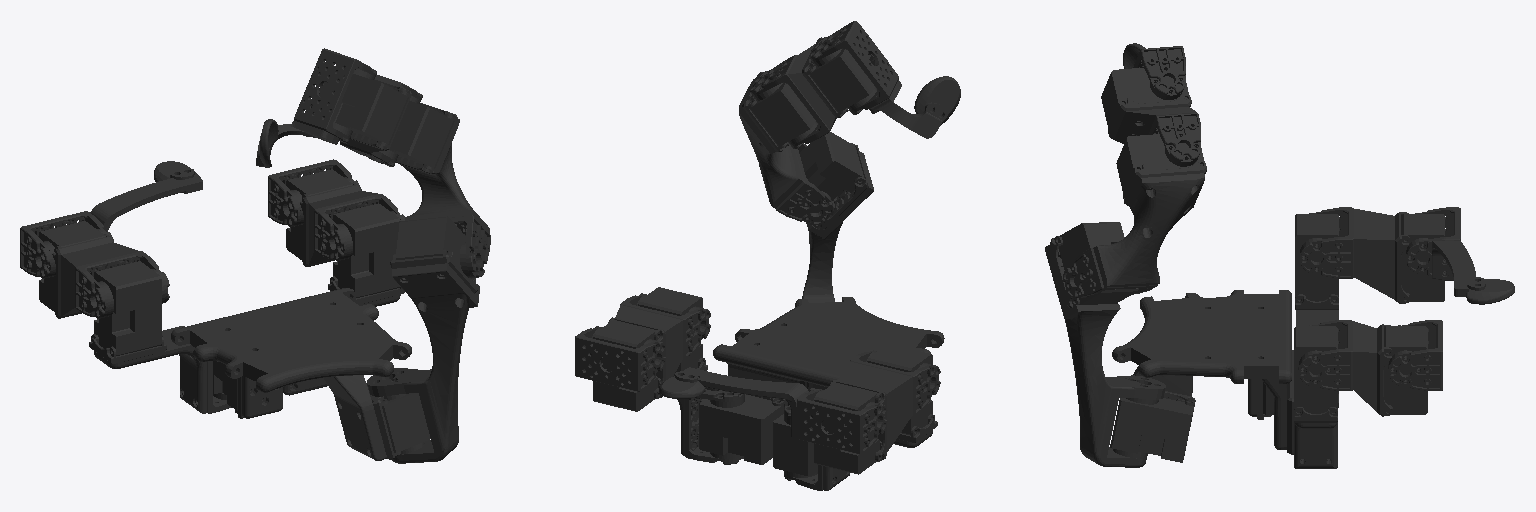
URDF robot description (ditto_3f_leader):
<?xml version="1.0" encoding="utf-8"?>
<!-- This URDF was automatically created by SolidWorks to URDF Exporter! Originally created by Stephen Brawner (brawner@gmail.com) 
     Commit Version: 1.6.0-4-g7f85cfe  Build Version: 1.6.7995.38578
     For more information, please see http://wiki.ros.org/sw_urdf_exporter -->
<robot
  name="ditto_3f_leader">
  <link
    name="base_link">
    <inertial>
      <origin
        xyz="-0.0213561328356412 -0.0366253635659899 0.00973470669305248"
        rpy="0 0 0" />
      <mass
        value="0.109125547143221" />
      <inertia
        ixx="4.18384967301601E-05"
        ixy="-1.3641439625342E-06"
        ixz="4.29400345729265E-06"
        iyy="3.55799228843054E-05"
        iyz="-8.34201252822404E-07"
        izz="5.61288584240305E-05" />
    </inertial>
    <visual>
      <origin
        xyz="0 0 0"
        rpy="0 0 0" />
      <geometry>
        <mesh
          filename="meshes/base_link.STL" />
      </geometry>
      <material
        name="">
        <color
          rgba="0.250980392156863 0.250980392156863 0.250980392156863 1" />
      </material>
    </visual>
    <collision>
      <origin
        xyz="0 0 0"
        rpy="0 0 0" />
      <geometry>
        <mesh
          filename="meshes/base_link.STL" />
      </geometry>
    </collision>
  </link>
  <link
    name="index_link_0">
    <inertial>
      <origin
        xyz="0.0271735386977429 3.02693931369142E-09 0.0290057238790129"
        rpy="0 0 0" />
      <mass
        value="0.0234290807402588" />
      <inertia
        ixx="3.11468553842293E-06"
        ixy="-1.63639516312443E-13"
        ixz="-2.1506879881659E-07"
        iyy="3.56962661403034E-06"
        iyz="-2.93292357355132E-13"
        izz="1.91839577955842E-06" />
    </inertial>
    <visual>
      <origin
        xyz="0 0 0"
        rpy="0 0 0" />
      <geometry>
        <mesh
          filename="meshes/index_link_0.STL" />
      </geometry>
      <material
        name="">
        <color
          rgba="0.250980392156863 0.250980392156863 0.250980392156863 1" />
      </material>
    </visual>
    <collision>
      <origin
        xyz="0 0 0"
        rpy="0 0 0" />
      <geometry>
        <mesh
          filename="meshes/index_link_0.STL" />
      </geometry>
    </collision>
  </link>
  <joint
    name="index_joint_0"
    type="revolute">
    <origin
      xyz="0 0 0"
      rpy="0 0 0" />
    <parent
      link="base_link" />
    <child
      link="index_link_0" />
    <axis
      xyz="0 0 -1" />
    <limit
      lower="-0.8"
      upper="0.3"
      effort="0"
      velocity="0" />
  </joint>
  <link name="retarget_base">
    <inertial>
      <origin xyz="0 0 0" rpy="0 0 0" />
      <mass value="1.0E-06" />
      <inertia ixx="1.0E-12" ixy="0" ixz="0" iyy="1.0E-12" iyz="0" izz="1.0E-12" />
    </inertial>
  </link>
  <joint name="retarget_base_joint" type="fixed">
    <origin xyz="0 0 0.046" rpy="0 0 0" />
    <parent link="base_link" />
    <child link="retarget_base" />
  </joint>
  <link
    name="index_link_1">
    <inertial>
      <origin
        xyz="0.0324867258156198 -0.00549943022495447 0.000209333565141162"
        rpy="0 0 0" />
      <mass
        value="0.0277581841607585" />
      <inertia
        ixx="4.11454234312938E-06"
        ixy="4.96840161489649E-08"
        ixz="1.58829402867338E-13"
        iyy="2.57034877332712E-06"
        iyz="-4.28535395323684E-08"
        izz="2.91638603075459E-06" />
    </inertial>
    <visual>
      <origin
        xyz="0 0 0"
        rpy="0 0 0" />
      <geometry>
        <mesh
          filename="meshes/index_link_1.STL" />
      </geometry>
      <material
        name="">
        <color
          rgba="0.250980392156863 0.250980392156863 0.250980392156863 1" />
      </material>
    </visual>
    <collision>
      <origin
        xyz="0 0 0"
        rpy="0 0 0" />
      <geometry>
        <mesh
          filename="meshes/index_link_1.STL" />
      </geometry>
    </collision>
  </link>
  <joint
    name="index_joint_1"
    type="revolute">
    <origin
      xyz="0.03 0 0.046"
      rpy="1.5707963267949 0 1.57079632679489" />
    <parent
      link="index_link_0" />
    <child
      link="index_link_1" />
    <axis
      xyz="0 0 -1" />
    <limit
      lower="-1.57"
      upper="0.17"
      effort="0"
      velocity="0" />
  </joint>
  <link
    name="index_link_2">
    <inertial>
      <origin
        xyz="0.0100768333002347 1.60820712605955E-13 -1.20264999675168E-12"
        rpy="0 0 0" />
      <mass
        value="0.00252674876938613" />
      <inertia
        ixx="5.37570168949988E-07"
        ixy="2.3690052303945E-18"
        ixz="-2.68581997503519E-17"
        iyy="5.77184540925893E-07"
        iyz="2.72601460923019E-18"
        izz="2.1332062555457E-07" />
    </inertial>
    <visual>
      <origin
        xyz="0 0 0"
        rpy="0 0 0" />
      <geometry>
        <mesh
          filename="meshes/index_link_2.STL" />
      </geometry>
      <material
        name="">
        <color
          rgba="0.250980392156863 0.250980392156863 0.250980392156863 1" />
      </material>
    </visual>
    <collision>
      <origin
        xyz="0 0 0"
        rpy="0 0 0" />
      <geometry>
        <mesh
          filename="meshes/index_link_2.STL" />
      </geometry>
    </collision>
  </link>
  <joint
    name="index_joint_2"
    type="revolute">
    <origin
      xyz="0.0409999999999935 0 0"
      rpy="0 0 0" />
    <parent
      link="index_link_1" />
    <child
      link="index_link_2" />
    <axis
      xyz="0 0 -1" />
    <limit
      lower="-1.57"
      upper="0.1"
      effort="0"
      velocity="0" />
  </joint>
  <link
    name="index_fingerpad">
    <inertial>
      <origin
        xyz="-0.0143776168752036 -0.00237508945353907 -0.00159388581233799"
        rpy="0 0 0" />
      <mass
        value="0.00293503442078024" />
      <inertia
        ixx="1.33921402320109E-07"
        ixy="-4.95796402223525E-08"
        ixz="-3.5454658506907E-08"
        iyy="3.38297009665592E-07"
        iyz="-3.08234184419248E-08"
        izz="3.77300622257017E-07" />
    </inertial>
    <visual>
      <origin
        xyz="0 0 0"
        rpy="0 0 0" />
      <geometry>
        <mesh
          filename="meshes/index_fingerpad.STL" />
      </geometry>
      <material
        name="">
        <color
          rgba="0.250980392156863 0.250980392156863 0.250980392156863 1" />
      </material>
    </visual>
    <collision>
      <origin
        xyz="0 0 0"
        rpy="0 0 0" />
      <geometry>
        <mesh
          filename="meshes/index_fingerpad.STL" />
      </geometry>
    </collision>
  </link>
  <joint
    name="index_fingerpad_joint"
    type="fixed">
    <origin
      xyz="0.0322000000000001 0.00700000000000183 -0.0278000000000001"
      rpy="-1.5707963267949 0 0" />
    <parent
      link="index_link_2" />
    <child
      link="index_fingerpad" />
    <axis
      xyz="0 0 0" />
  </joint>
  <link
    name="thumb_link_0">
    <inertial>
      <origin
        xyz="0.027721140491236 0.0124445544239226 0.0455118929556209"
        rpy="0 0 0" />
      <mass
        value="0.0360287572495203" />
      <inertia
        ixx="1.75150293312771E-05"
        ixy="-3.49417617835589E-07"
        ixz="-5.69771563106498E-06"
        iyy="1.93710255768993E-05"
        iyz="5.46256846149709E-07"
        izz="5.97339197497642E-06" />
    </inertial>
    <visual>
      <origin
        xyz="0 0 0"
        rpy="0 0 0" />
      <geometry>
        <mesh
          filename="meshes/thumb_link_0.STL" />
      </geometry>
      <material
        name="">
        <color
          rgba="0.250980392156863 0.250980392156863 0.250980392156863 1" />
      </material>
    </visual>
    <collision>
      <origin
        xyz="0 0 0"
        rpy="0 0 0" />
      <geometry>
        <mesh
          filename="meshes/thumb_link_0.STL" />
      </geometry>
    </collision>
  </link>
  <joint
    name="thumb_joint_0"
    type="revolute">
    <origin
      xyz="-0.00214172528372005 -0.0804363017815774 0.00547954198946005"
      rpy="0.016838154197939 -0.181665966850915 -1.66373584590886" />
    <parent
      link="base_link" />
    <child
      link="thumb_link_0" />
    <axis
      xyz="0 -0.167114290573186 0.985937530417734" />
    <limit
      lower="-0.57"
      upper="0.8"
      effort="0"
      velocity="0" />
  </joint>
  <link
    name="thumb_link_1">
    <inertial>
      <origin
        xyz="0.0415651938691396 0.0230648362829693 -0.0135230722742165"
        rpy="0 0 0" />
      <mass
        value="0.0337789978005482" />
      <inertia
        ixx="4.61511916267369E-06"
        ixy="-1.59805595804912E-06"
        ixz="7.95780644293983E-07"
        iyy="6.53418176403598E-06"
        iyz="6.17483182179756E-08"
        izz="5.66157678825438E-06" />
    </inertial>
    <visual>
      <origin
        xyz="0 0 0"
        rpy="0 0 0" />
      <geometry>
        <mesh
          filename="meshes/thumb_link_1.STL" />
      </geometry>
      <material
        name="">
        <color
          rgba="0.250980392156863 0.250980392156863 0.250980392156863 1" />
      </material>
    </visual>
    <collision>
      <origin
        xyz="0 0 0"
        rpy="0 0 0" />
      <geometry>
        <mesh
          filename="meshes/thumb_link_1.STL" />
      </geometry>
    </collision>
  </link>
  <joint
    name="thumb_joint_1"
    type="revolute">
    <origin
      xyz="0.0339411254969603 0.023013567589507 0.0673262918632758"
      rpy="1.40051047580421 -0.799169731618551 2.47174579176664" />
    <parent
      link="thumb_link_0" />
    <child
      link="thumb_link_1" />
    <axis
      xyz="0 0 1" />
    <limit
      lower="-1.57"
      upper="0.3"
      effort="0"
      velocity="0" />
  </joint>
  <link
    name="thumb_link_2">
    <inertial>
      <origin
        xyz="0.0292947393624981 0.00579498422914695 -0.00775278692823328"
        rpy="0 0 0" />
      <mass
        value="0.0235045649917366" />
      <inertia
        ixx="3.56323789548823E-06"
        ixy="-1.01749709931021E-08"
        ixz="1.29052781790808E-16"
        iyy="2.18948897180294E-06"
        iyz="4.2854941744936E-08"
        izz="2.60810652101685E-06" />
    </inertial>
    <visual>
      <origin
        xyz="0 0 0"
        rpy="0 0 0" />
      <geometry>
        <mesh
          filename="meshes/thumb_link_2.STL" />
      </geometry>
      <material
        name="">
        <color
          rgba="0.250980392156863 0.250980392156863 0.250980392156863 1" />
      </material>
    </visual>
    <collision>
      <origin
        xyz="0 0 0"
        rpy="0 0 0" />
      <geometry>
        <mesh
          filename="meshes/thumb_link_2.STL" />
      </geometry>
    </collision>
  </link>
  <joint
    name="thumb_joint_2"
    type="revolute">
    <origin
      xyz="0.0592471988937203 0.0378393192831765 -0.0197895079937487"
      rpy="1.14448873095508 0.194946179240088 1.71050085923731" />
    <parent
      link="thumb_link_1" />
    <child
      link="thumb_link_2" />
    <axis
      xyz="0 0 1" />
    <limit
      lower="-1.57"
      upper="0.3"
      effort="0"
      velocity="0" />
  </joint>
  <link
    name="thumb_link_3">
    <inertial>
      <origin
        xyz="0.0100768331773071 -5.45364933768333E-11 -0.00799999996804443"
        rpy="0 0 0" />
      <mass
        value="0.00252674889330346" />
      <inertia
        ixx="5.37570170098016E-07"
        ixy="-5.88779675685063E-16"
        ixz="3.81325110706091E-16"
        iyy="5.77184541773846E-07"
        iyz="-3.88278447183493E-17"
        izz="2.13320626356563E-07" />
    </inertial>
    <visual>
      <origin
        xyz="0 0 0"
        rpy="0 0 0" />
      <geometry>
        <mesh
          filename="meshes/thumb_link_3.STL" />
      </geometry>
      <material
        name="">
        <color
          rgba="0.250980392156863 0.250980392156863 0.250980392156863 1" />
      </material>
    </visual>
    <collision>
      <origin
        xyz="0 0 0"
        rpy="0 0 0" />
      <geometry>
        <mesh
          filename="meshes/thumb_link_3.STL" />
      </geometry>
    </collision>
  </link>
  <joint
    name="thumb_joint_3"
    type="revolute">
    <origin
      xyz="0.035 0 0"
      rpy="0 0 0" />
    <parent
      link="thumb_link_2" />
    <child
      link="thumb_link_3" />
    <axis
      xyz="0 0 1" />
    <limit
      lower="-1.57"
      upper="0.1"
      effort="0"
      velocity="0" />
  </joint>
  <link
    name="thumb_fingerpad">
    <inertial>
      <origin
        xyz="-0.00844009736991974 0.00573387152339363 -0.00521265550446311"
        rpy="0 0 0" />
      <mass
        value="0.00282848549611836" />
      <inertia
        ixx="2.9190702938092E-07"
        ixy="9.70880291220612E-09"
        ixz="9.1507941828543E-09"
        iyy="2.36829249448083E-07"
        iyz="8.34407283629399E-08"
        izz="1.71632993338662E-07" />
    </inertial>
    <visual>
      <origin
        xyz="0 0 0"
        rpy="0 0 0" />
      <geometry>
        <mesh
          filename="meshes/thumb_fingerpad.STL" />
      </geometry>
      <material
        name="">
        <color
          rgba="0.250980392156863 0.250980392156863 0.250980392156863 1" />
      </material>
    </visual>
    <collision>
      <origin
        xyz="0 0 0"
        rpy="0 0 0" />
      <geometry>
        <mesh
          filename="meshes/thumb_fingerpad.STL" />
      </geometry>
    </collision>
  </link>
  <joint
    name="thumb_fingerpad_joint"
    type="fixed">
    <origin
      xyz="0.034 -0.00499999999999969 -0.0398"
      rpy="1.80666825946076 -0.379498136323909 0.503100653479423" />
    <parent
      link="thumb_link_3" />
    <child
      link="thumb_fingerpad" />
    <axis
      xyz="0 0 0" />
  </joint>
  <link
    name="middle_link_0">
    <inertial>
      <origin
        xyz="0.0428660995746774 -6.81652114744788E-10 0.0275129733864136"
        rpy="0 0 0" />
      <mass
        value="0.0257036203076206" />
      <inertia
        ixx="3.37340622109194E-06"
        ixy="-4.6810213020141E-14"
        ixz="-4.65928978802705E-07"
        iyy="4.87334238776261E-06"
        iyz="-1.17575733298302E-13"
        izz="3.10117177028274E-06" />
    </inertial>
    <visual>
      <origin
        xyz="0 0 0"
        rpy="0 0 0" />
      <geometry>
        <mesh
          filename="meshes/middle_link_0.STL" />
      </geometry>
      <material
        name="">
        <color
          rgba="0.250980392156863 0.250980392156863 0.250980392156863 1" />
      </material>
    </visual>
    <collision>
      <origin
        xyz="0 0 0"
        rpy="0 0 0" />
      <geometry>
        <mesh
          filename="meshes/middle_link_0.STL" />
      </geometry>
    </collision>
  </link>
  <joint
    name="middle_joint_0"
    type="revolute">
    <origin
      xyz="-0.0395 0.0005 0"
      rpy="0 0 3.1416" />
    <parent
      link="base_link" />
    <child
      link="middle_link_0" />
    <axis
      xyz="0 0 -1" />
    <limit
      lower="-0.3"
      upper="0.3"
      effort="0"
      velocity="0" />
  </joint>
  <link
    name="middle_link_1">
    <inertial>
      <origin
        xyz="0.0364928103809854 -0.00525061406363379 0.000176615436499439"
        rpy="0 0 0" />
      <mass
        value="0.0329000270028115" />
      <inertia
        ixx="4.78314507668699E-06"
        ixy="1.40869805443594E-07"
        ixz="-3.79420138484226E-14"
        iyy="3.23635026567844E-06"
        iyz="-4.28547769247268E-08"
        izz="3.4883400552915E-06" />
    </inertial>
    <visual>
      <origin
        xyz="0 0 0"
        rpy="0 0 0" />
      <geometry>
        <mesh
          filename="meshes/middle_link_1.STL" />
      </geometry>
      <material
        name="">
        <color
          rgba="0.250980392156863 0.250980392156863 0.250980392156863 1" />
      </material>
    </visual>
    <collision>
      <origin
        xyz="0 0 0"
        rpy="0 0 0" />
      <geometry>
        <mesh
          filename="meshes/middle_link_1.STL" />
      </geometry>
    </collision>
  </link>
  <joint
    name="middle_joint_1"
    type="revolute">
    <origin
      xyz="0.052 0 0.046"
      rpy="1.5708 0 -1.5708" />
    <parent
      link="middle_link_0" />
    <child
      link="middle_link_1" />
    <axis
      xyz="0 0 -1" />
    <limit
      lower="-1.57"
      upper="0.17"
      effort="0"
      velocity="0" />
  </joint>
  <link
    name="middle_link_2">
    <inertial>
      <origin
        xyz="0.0100768333002347 1.60802726857313E-13 -1.20251031354712E-12"
        rpy="0 0 0" />
      <mass
        value="0.00252674876938613" />
      <inertia
        ixx="5.37570168949986E-07"
        ixy="2.36895988529726E-18"
        ixz="-2.68580671741651E-17"
        iyy="5.7718454092589E-07"
        iyz="2.72609273625266E-18"
        izz="2.13320625554569E-07" />
    </inertial>
    <visual>
      <origin
        xyz="0 0 0"
        rpy="0 0 0" />
      <geometry>
        <mesh
          filename="meshes/middle_link_2.STL" />
      </geometry>
      <material
        name="">
        <color
          rgba="0.250980392156863 0.250980392156863 0.250980392156863 1" />
      </material>
    </visual>
    <collision>
      <origin
        xyz="0 0 0"
        rpy="0 0 0" />
      <geometry>
        <mesh
          filename="meshes/middle_link_2.STL" />
      </geometry>
    </collision>
  </link>
  <joint
    name="middle_joint_2"
    type="revolute">
    <origin
      xyz="0.0485 0 0"
      rpy="0 0 0" />
    <parent
      link="middle_link_1" />
    <child
      link="middle_link_2" />
    <axis
      xyz="0 0 -1" />
    <limit
      lower="-1.57"
      upper="0.1"
      effort="0"
      velocity="0" />
  </joint>
  <link
    name="middle_fingerpad">
    <inertial>
      <origin
        xyz="-0.0114172280277434 0.0227073491989478 -0.00166305516375729"
        rpy="0 0 0" />
      <mass
        value="0.00354844692145956" />
      <inertia
        ixx="1.7009250350319E-06"
        ixy="5.17333400765718E-07"
        ixz="-5.44575449393752E-08"
        iyy="3.42334541322453E-07"
        iyz="1.83444166080006E-07"
        izz="1.89160731311215E-06" />
    </inertial>
    <visual>
      <origin
        xyz="0 0 0"
        rpy="0 0 0" />
      <geometry>
        <mesh
          filename="meshes/middle_fingerpad.STL" />
      </geometry>
      <material
        name="">
        <color
          rgba="0.250980392156863 0.250980392156863 0.250980392156863 1" />
      </material>
    </visual>
    <collision>
      <origin
        xyz="0 0 0"
        rpy="0 0 0" />
      <geometry>
        <mesh
          filename="meshes/middle_fingerpad.STL" />
      </geometry>
    </collision>
  </link>
  <joint
    name="middle_fingerpad_joint"
    type="fixed">
    <origin
      xyz="0.0302000000000001 0.00975000000000249 0.0702999999999999"
      rpy="-1.5707963267949 0 0" />
    <parent
      link="middle_link_2" />
    <child
      link="middle_fingerpad" />
    <axis
      xyz="0 0 0" />
  </joint>
</robot>

--- Facts derived from the render (not from the file) ---
The picture shows the robot from 3 angles, left to right: view 1: azimuth 30°, elevation 25°; view 2: azimuth 150°, elevation 25°; view 3: azimuth 270°, elevation 25°; orthographic projection.
Model ditto_3f_leader with 15 links and 14 joints (10 revolute, 4 fixed), rooted at base_link, posed every joint at zero.
Links seen in each view (by area): view 1: base_link, thumb_link_0, middle_link_0, thumb_link_1, middle_link_1, index_link_1, index_link_0, thumb_link_2, thumb_link_3, middle_fingerpad, middle_link_2, index_link_2 (+1 smaller); view 2: base_link, thumb_link_1, middle_link_1, thumb_link_0, index_link_1, thumb_link_2, index_link_2, middle_link_2, index_link_0, middle_link_0, middle_fingerpad, thumb_fingerpad (+1 smaller); view 3: base_link, thumb_link_1, thumb_link_0, middle_link_1, index_link_1, thumb_link_2, index_link_0, middle_link_0, middle_fingerpad, index_link_2, thumb_link_3, middle_link_2.
Boxes of the visible links, x1,y1,x2,y2 form: base_link: [171, 288, 430, 460]; thumb_link_0: [367, 216, 479, 463]; middle_link_0: [89, 261, 231, 413]; thumb_link_1: [379, 96, 490, 277]; middle_link_1: [39, 221, 169, 318]; index_link_1: [286, 169, 404, 266]; index_link_0: [328, 203, 404, 306]; thumb_link_2: [311, 67, 422, 166]; thumb_link_3: [294, 48, 376, 143]; middle_fingerpad: [90, 161, 202, 231]; middle_link_2: [20, 211, 111, 278]; index_link_2: [268, 159, 358, 227]; base_link: [699, 297, 944, 477]; thumb_link_1: [739, 70, 833, 224]; middle_link_1: [811, 350, 940, 474]; thumb_link_0: [799, 132, 873, 302]; index_link_1: [590, 293, 710, 411]; thumb_link_2: [749, 25, 887, 148]; index_link_2: [575, 326, 665, 391]; middle_link_2: [797, 389, 887, 453]; index_link_0: [637, 287, 744, 464]; middle_link_0: [784, 344, 937, 490]; middle_fingerpad: [659, 367, 808, 437]; thumb_fingerpad: [869, 76, 960, 138]; base_link: [1110, 290, 1293, 462]; thumb_link_1: [1063, 134, 1206, 297]; thumb_link_0: [1045, 222, 1165, 467]; middle_link_1: [1300, 207, 1444, 303]; index_link_1: [1298, 320, 1427, 416]; thumb_link_2: [1101, 68, 1200, 163]; index_link_0: [1294, 326, 1337, 468]; middle_link_0: [1295, 214, 1338, 407]; middle_fingerpad: [1432, 240, 1514, 304]; index_link_2: [1388, 320, 1442, 390]; thumb_link_3: [1133, 46, 1185, 96]; middle_link_2: [1406, 207, 1460, 275].
Bounding box of the posed robot: 0.1561 × 0.2149 × 0.1988 m (x, y, z).
13 mesh visuals loaded from 14 distinct referenced files (13 binary STL); not drawn: 1 (reference not matched to a file when rendering).
